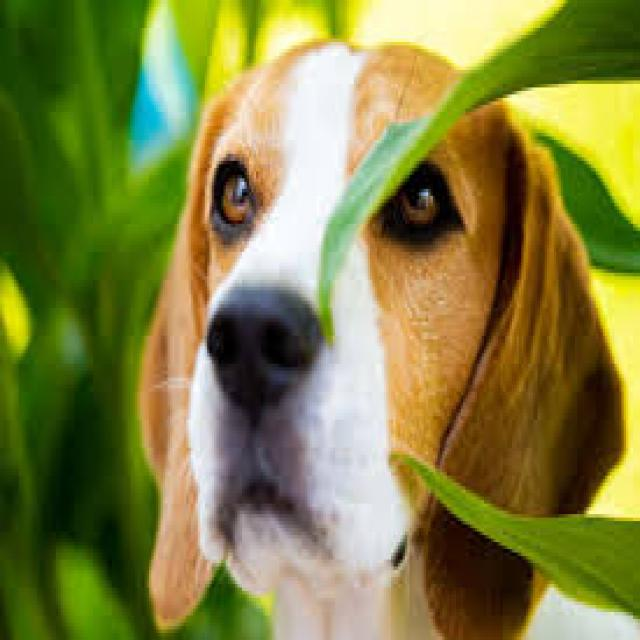Dog: (132, 33, 626, 640)
